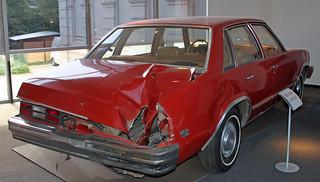boot-dent: (23, 55, 168, 118)
quaterpanel-dent: (163, 74, 238, 151)
rear-bumper-dent: (11, 91, 164, 148)
